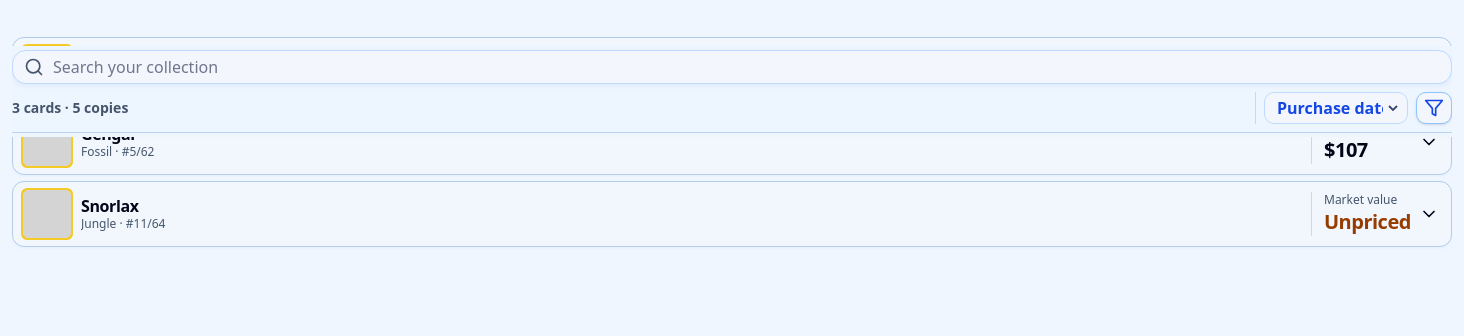
Scenario: filters pending catalog rows, searches and shows unpriced coverage without zero substitution
The width and height of the screenshot is (1464, 336).
Step 1. Click the button named "Sort and filter" → (1434, 108), box top-left (1416, 92), bottom-right (1452, 124)
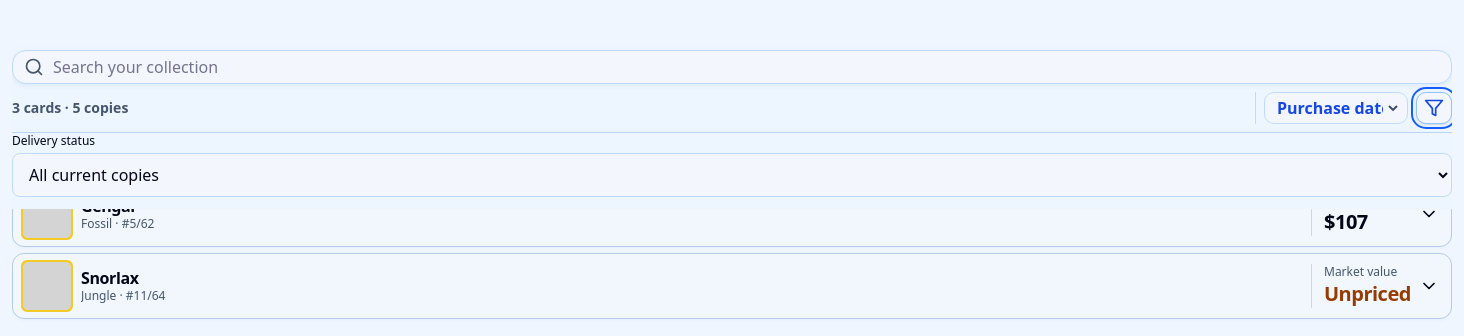
Step 2. Select "On the way" in the dropdown labelled "Delivery status" → (732, 175), box top-left (12, 153), bottom-right (1452, 197)
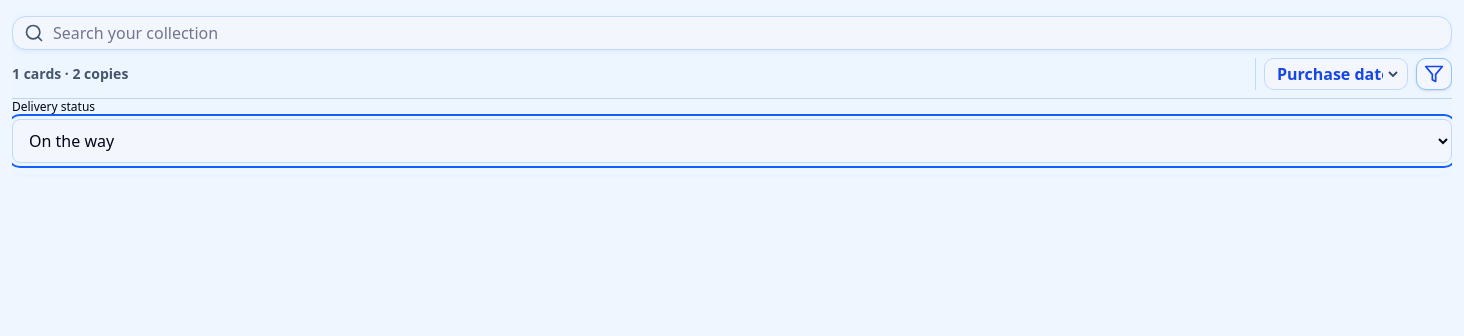
Expected: the button named "Card details: Gengar" is shown, top-left (13, 110), bottom-right (1407, 174)
Expected: the picture "Card details: Charizard" is gone
Step 3. Type "Missing" into the search field → (732, 33), box top-left (12, 16), bottom-right (1452, 50)
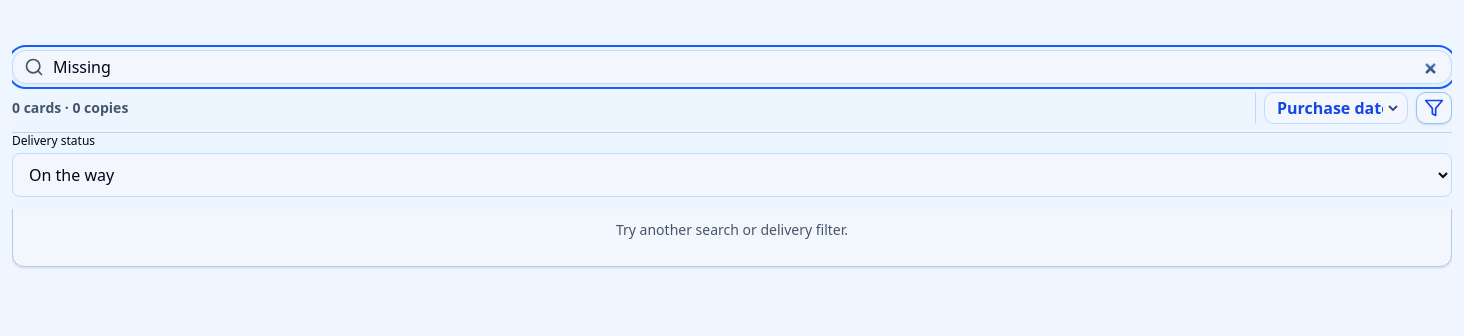
Expected: the heading "No matching cards" is shown, top-left (638, 178), bottom-right (826, 205)
